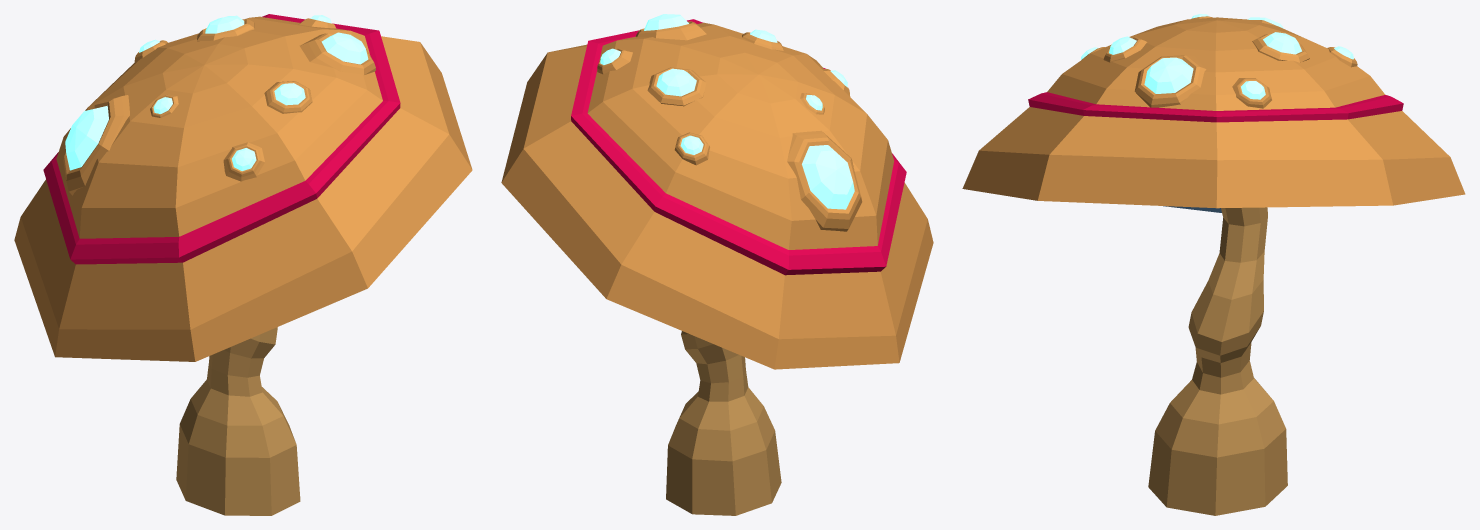
File: Mushroom_03_Var_02.fbx
3 views of the same model, side by side, from view 1: azimuth 30°, elevation 25°; view 2: azimuth 150°, elevation 25°; view 3: azimuth 270°, elevation 25° (orthographic). The views are drawn at different scales.
Visible parts, largest first — view 1: Mushroom_03_Var_02; view 2: Mushroom_03_Var_02; view 3: Mushroom_03_Var_02.
Boxes of the visible parts, box(x1,y1,x2,y2) form: Mushroom_03_Var_02: box(14, 14, 472, 515); Mushroom_03_Var_02: box(501, 14, 933, 515); Mushroom_03_Var_02: box(962, 14, 1465, 515).
Bounding box in the file's own units: 0.3061 × 0.3147 × 0.279.
